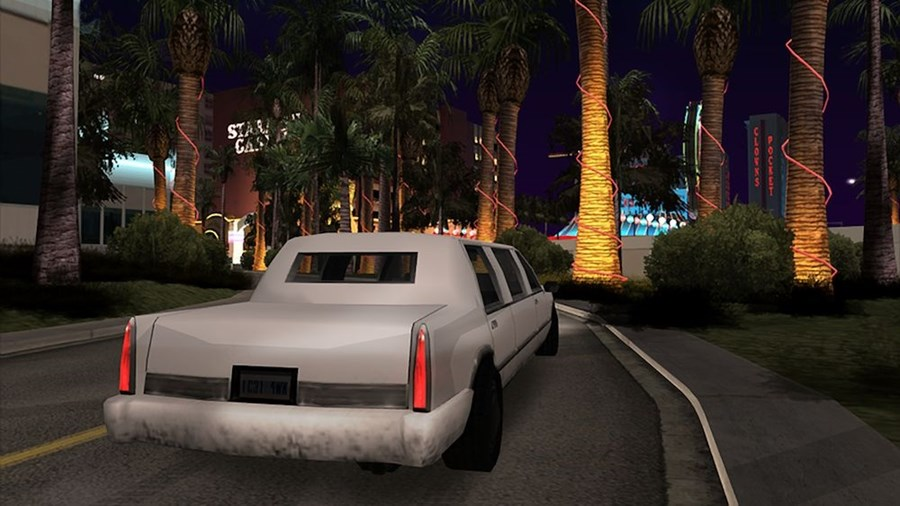car: (111, 229, 562, 488)
